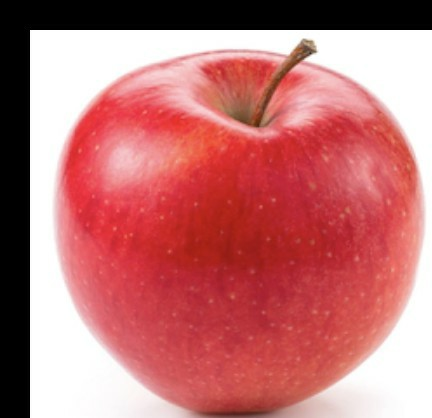fresh_apple: (54, 50, 426, 413)
